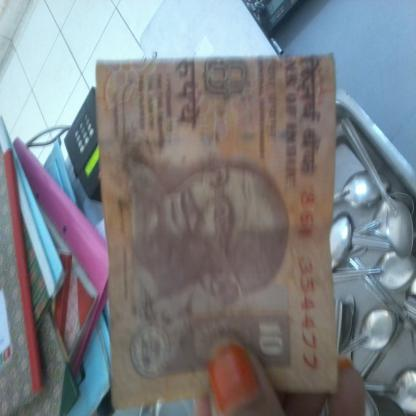Old10Front: (95, 53, 338, 410)
